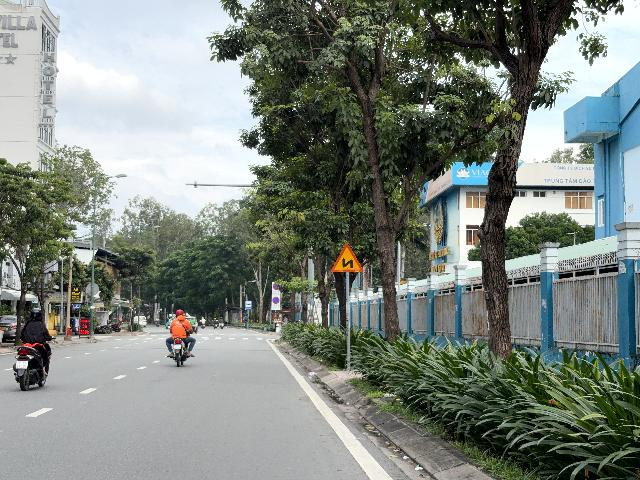nhieu-cho-ngoat-nguy-hiem-lien-tiep: (330, 243, 364, 272)
